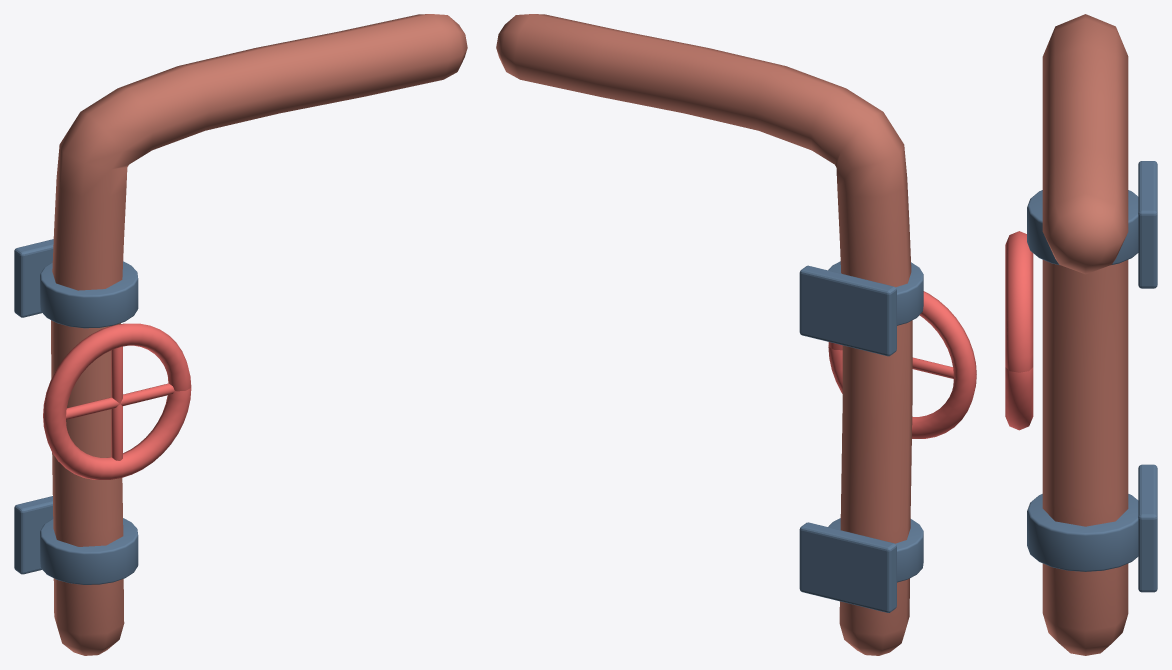
Rendered from pipes.glb.
The picture shows the model from 3 angles, left to right: view 1: azimuth 30°, elevation 25°; view 2: azimuth 150°, elevation 25°; view 3: azimuth 270°, elevation 25°; orthographic projection. The views are drawn at different scales.
Parts seen in each view (by area): view 1: Painted_pipe, Red_valve, Union, Union.001, Wall_plate.001, Wall_plate; view 2: Painted_pipe, Wall_plate.001, Wall_plate, Red_valve, Union, Union.001; view 3: Painted_pipe, Union, Red_valve, Wall_plate, Wall_plate.001, Union.001.
Boxes of the visible parts, box(x1,y1,x2,y2) form: Painted_pipe: box(51, 14, 467, 655); Red_valve: box(43, 323, 191, 479); Union: box(40, 518, 138, 584); Union.001: box(40, 261, 138, 328); Wall_plate.001: box(14, 239, 53, 317); Wall_plate: box(14, 496, 53, 574); Painted_pipe: box(496, 14, 912, 655); Wall_plate.001: box(799, 265, 896, 356); Wall_plate: box(799, 522, 896, 612); Red_valve: box(828, 291, 976, 438); Union: box(828, 518, 923, 582); Union.001: box(828, 261, 923, 325); Painted_pipe: box(1042, 14, 1128, 655); Union: box(1027, 494, 1138, 571); Red_valve: box(1005, 231, 1033, 430); Wall_plate: box(1138, 464, 1157, 592); Wall_plate.001: box(1138, 161, 1157, 288); Union.001: box(1027, 190, 1138, 264).
Size of the model in its own units: 0.783 by 0.9419 by 0.1955.
